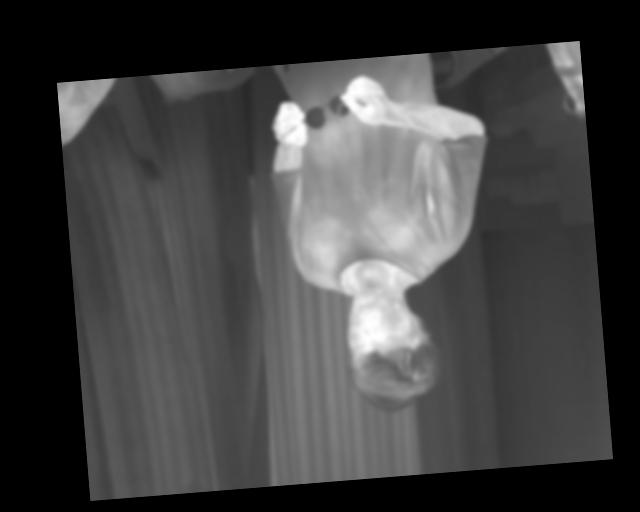face: (412, 165, 508, 288)
